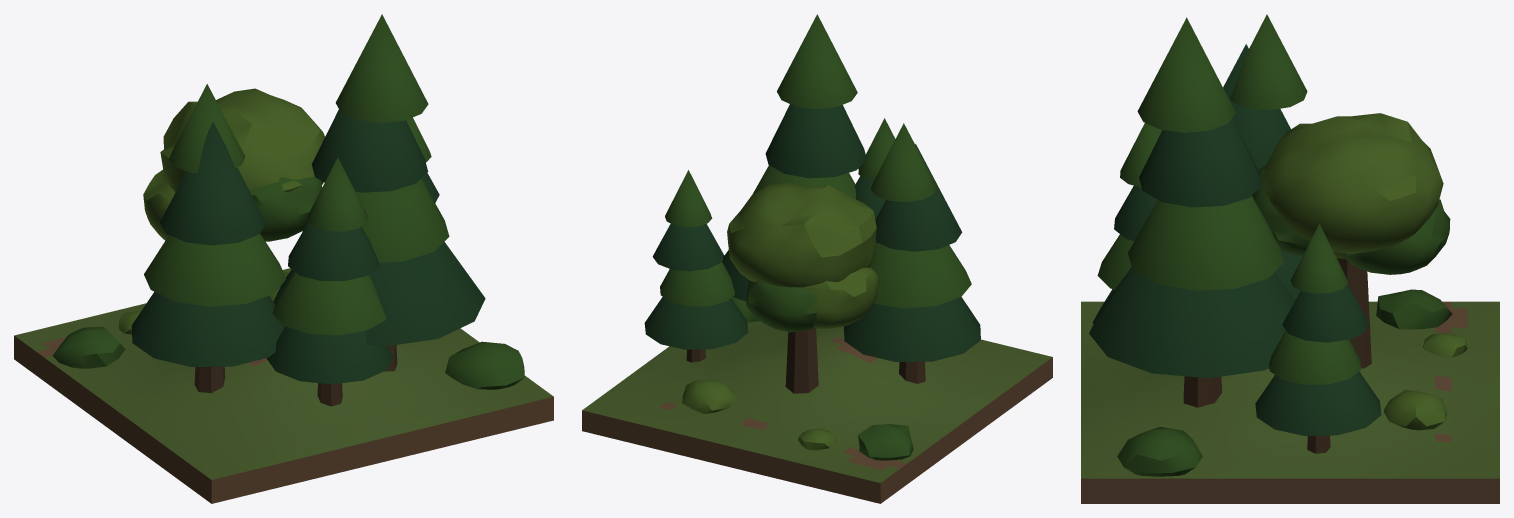
The picture shows the model from 3 angles, left to right: view 1: azimuth 30°, elevation 25°; view 2: azimuth 150°, elevation 25°; view 3: azimuth 270°, elevation 25°; orthographic projection. The views are drawn at different scales.
Visible parts, largest first — view 1: bk4; view 2: bk4; view 3: bk4.
Boxes of the visible parts, x1,y1,x2,y2 form: bk4: (14, 14, 553, 503); bk4: (582, 14, 1052, 503); bk4: (1081, 14, 1499, 503).
Size of the model in its own units: 9.16 by 10.05 by 9.
